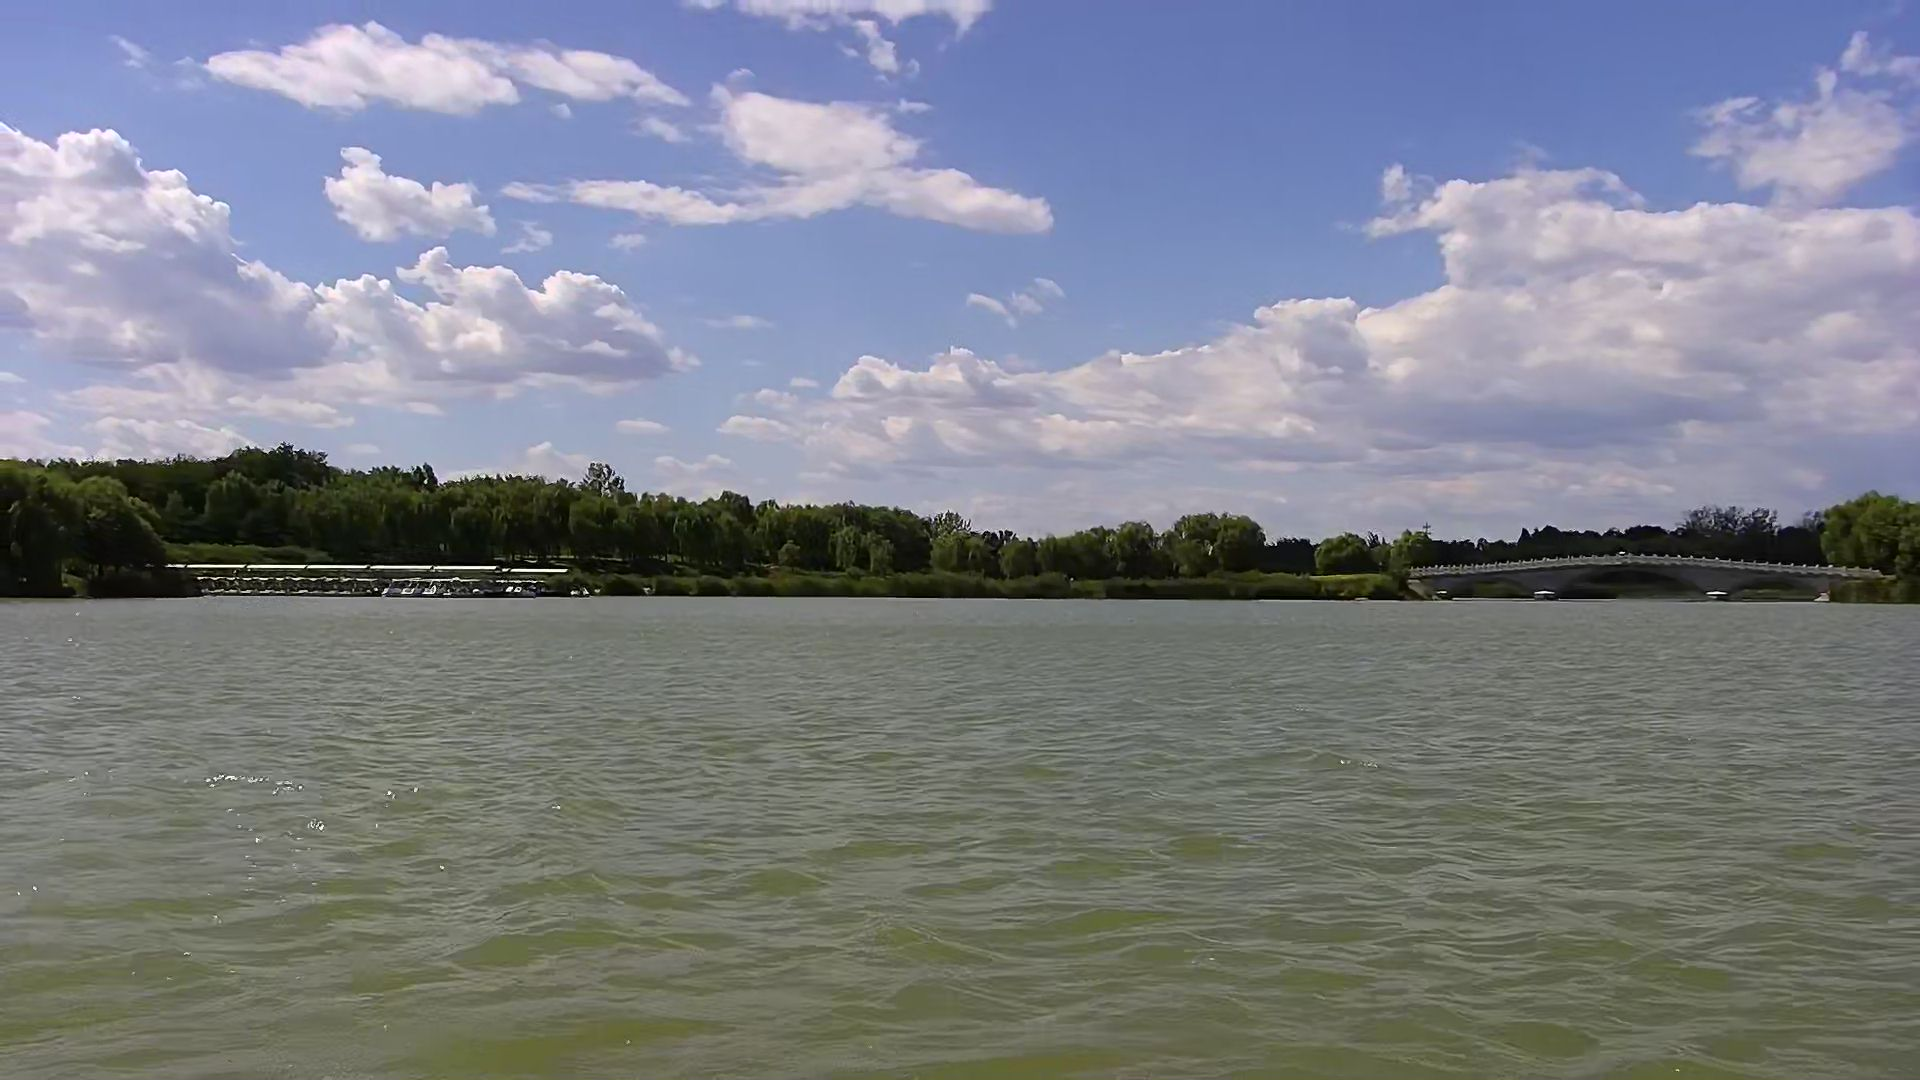bridge: (1407, 551, 1894, 611)
harbor: (175, 553, 578, 615)
